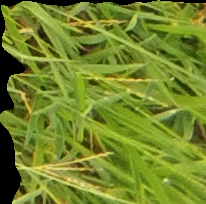grass: (1, 1, 205, 203)
